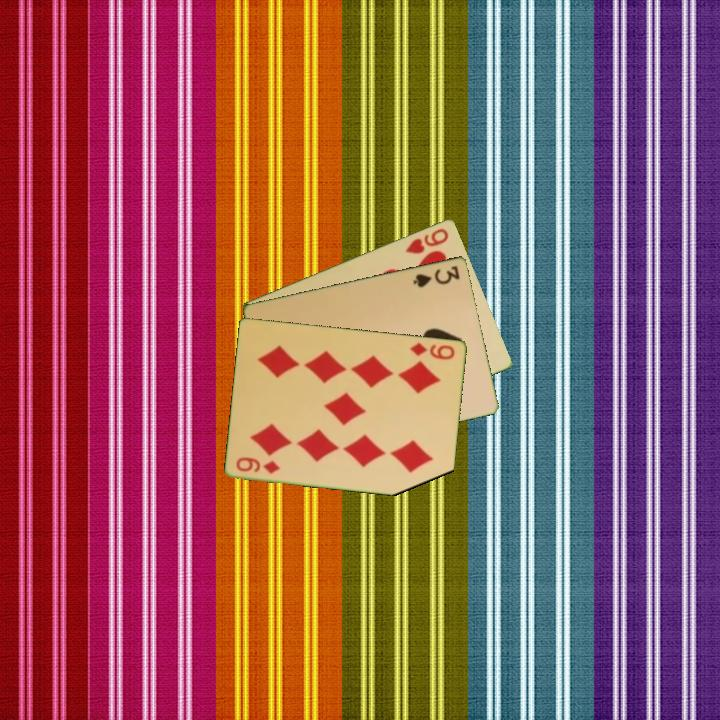3s: (410, 262, 463, 290)
9d: (406, 339, 458, 362), (233, 453, 283, 476)
9h: (402, 224, 452, 257)
